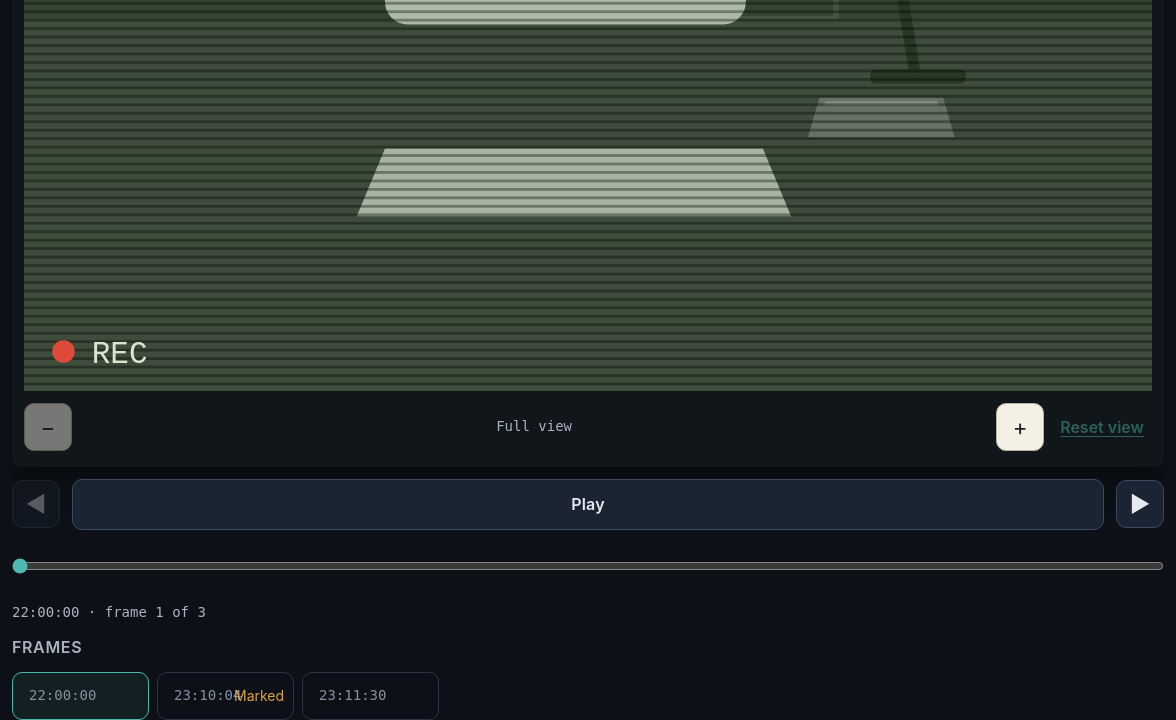
Test: CctvViewer › plays through the frames and stops on the last
(page scrolled)
Click the button "Play".
click(588, 504)  # box [72,479,1104,530]
Wait 3500 ms
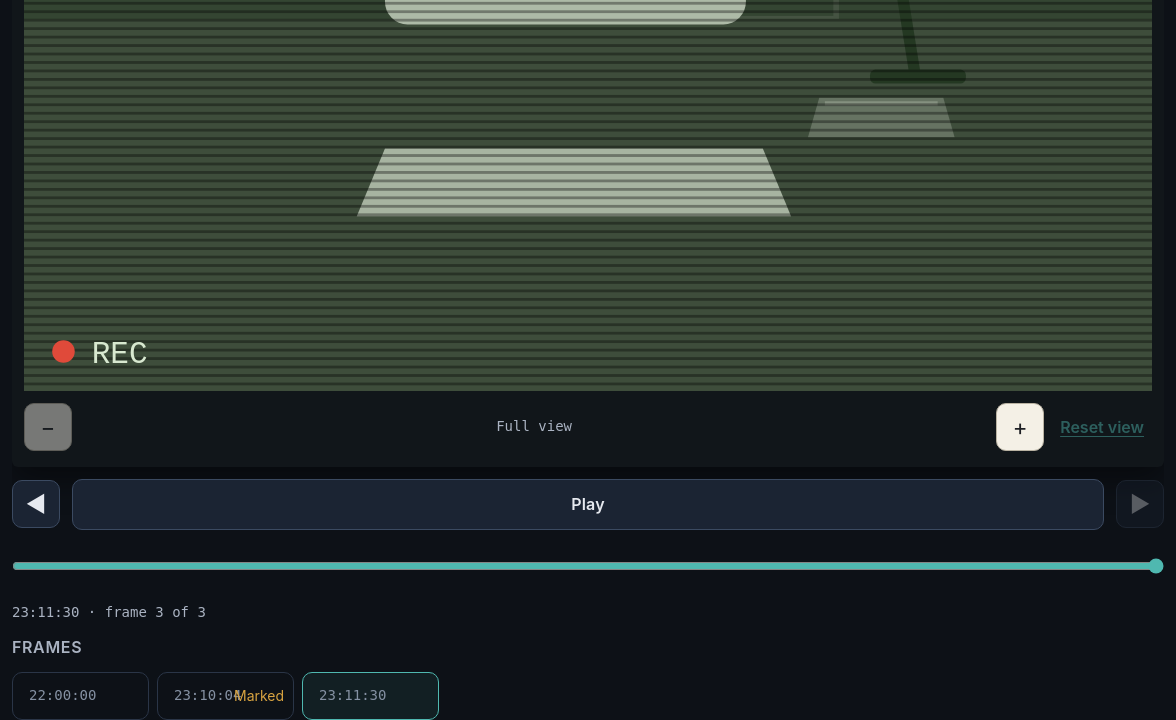
Check: the text "23:11:30 · frame 3 of 3" is shown, box [12,604,206,620]
